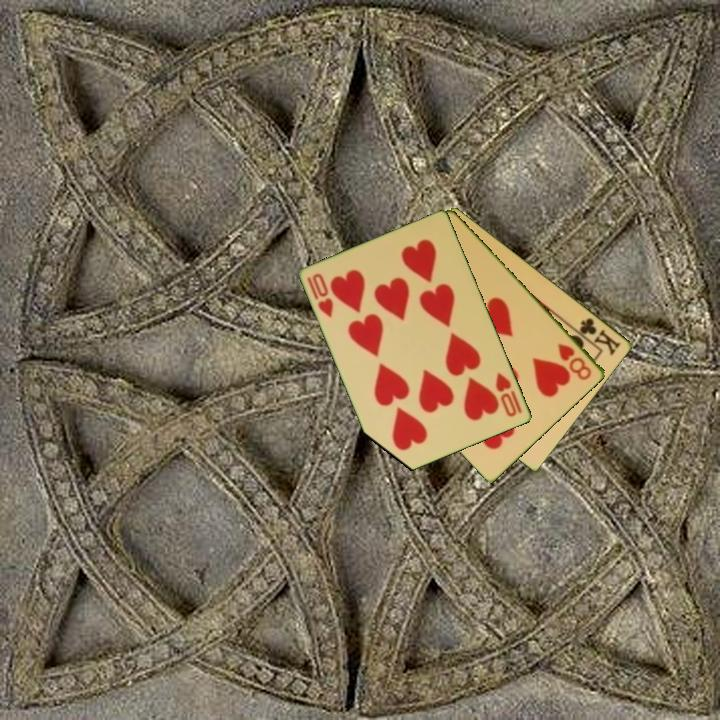10h: (304, 270, 337, 321), (492, 369, 520, 420)
8h: (554, 339, 595, 383)
Kc: (570, 314, 624, 358)
